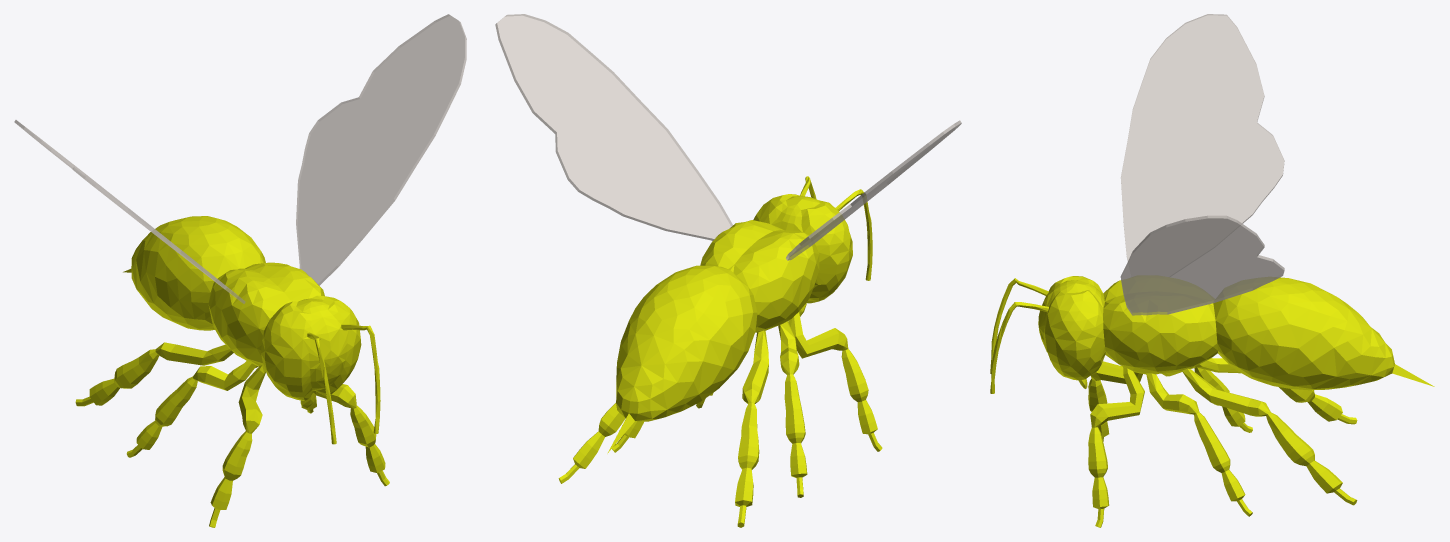
The model's file is Biene2.fbx.
The picture shows the model from 3 angles, left to right: view 1: azimuth 30°, elevation 25°; view 2: azimuth 150°, elevation 25°; view 3: azimuth 270°, elevation 25°; orthographic projection. The views are drawn at different scales.
Parts seen in each view (by area): view 1: bee; view 2: bee; view 3: bee.
Part boxes in pixels (x1=…): bee: x1=14, y1=14, x2=466, y2=527; bee: x1=495, y1=14, x2=961, y2=527; bee: x1=990, y1=14, x2=1434, y2=527.
Bounding box in the file's own units: 182 × 155 × 168.
